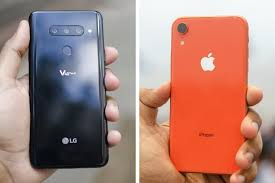lg: (24, 6, 113, 170)
